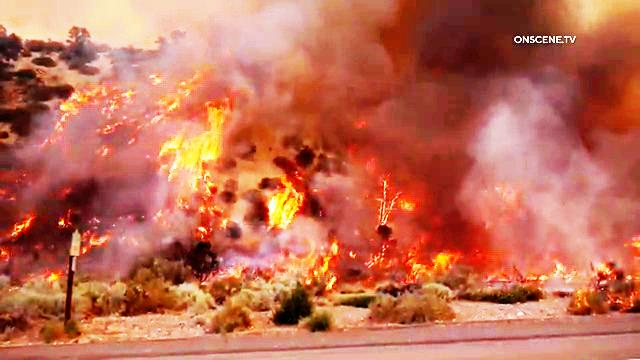fire: (146, 76, 244, 247), (92, 53, 242, 142), (354, 165, 440, 307), (55, 77, 146, 165), (234, 246, 342, 302), (394, 226, 480, 289), (257, 180, 303, 236)
smoke: (308, 6, 490, 84), (477, 55, 636, 141), (554, 157, 639, 216)
